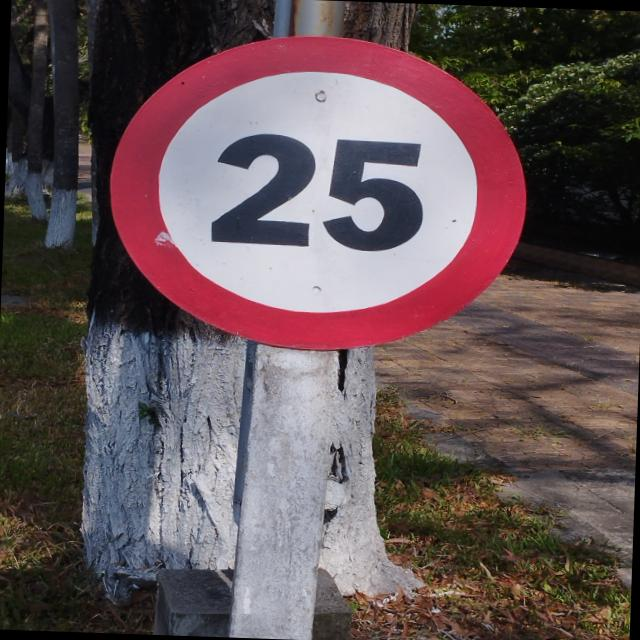Tre_Em: (104, 28, 532, 354)
